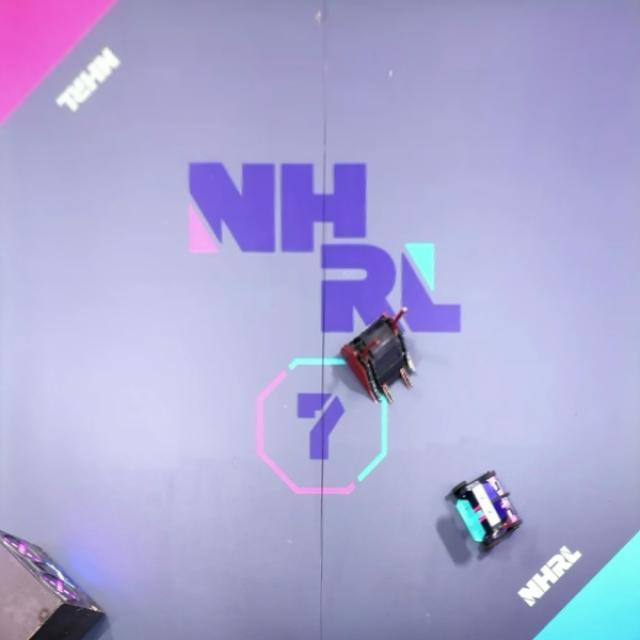housebot: (0, 526, 107, 640)
robot: (340, 307, 419, 405), (447, 468, 523, 552)
